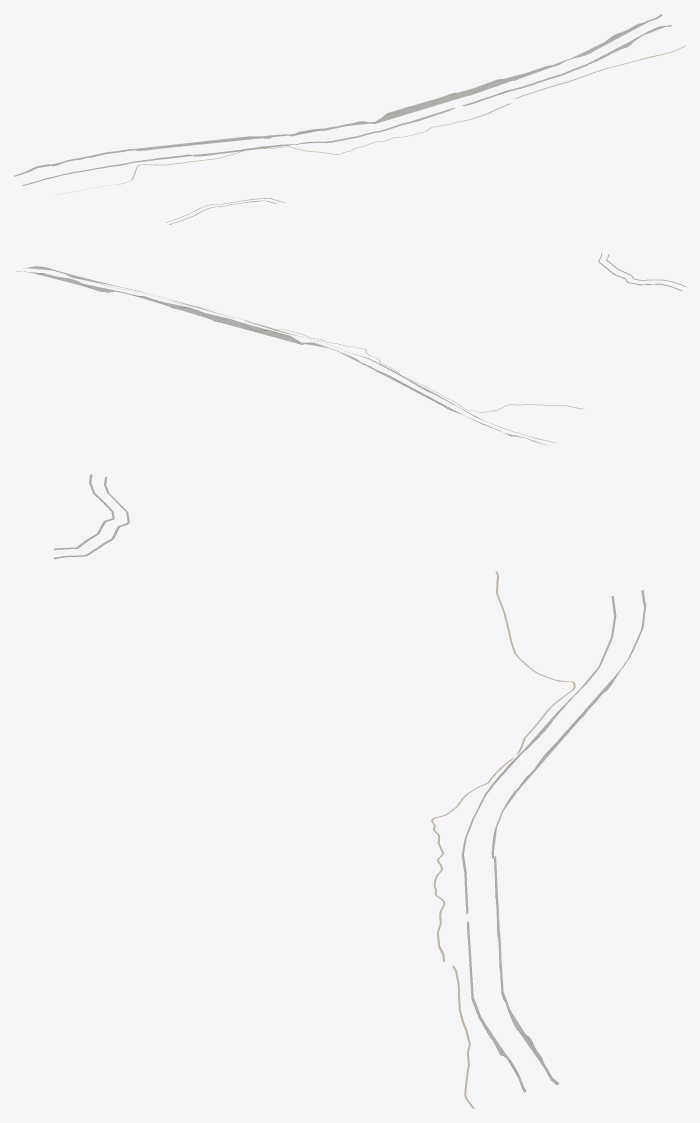
The model's file is ground_r0_c2.glb.
3 views of the same model, one above another, from view 1: azimuth 30°, elevation 25°; view 2: azimuth 150°, elevation 25°; view 3: azimuth 270°, elevation 25° (orthographic). The views are drawn at different scales.
Parts seen in each view (by area): view 1: sidewalks, paths; view 2: sidewalks, paths; view 3: sidewalks, paths.
Boxes of the visible parts, x1,y1,x2,y2 form: sidewalks: [14, 14, 671, 224]; paths: [55, 45, 685, 195]; sidewalks: [17, 253, 685, 445]; paths: [55, 271, 584, 412]; sidewalks: [54, 474, 646, 1092]; paths: [431, 571, 575, 1108].
Size of the model in its own units: 1125 by 128 by 520.
